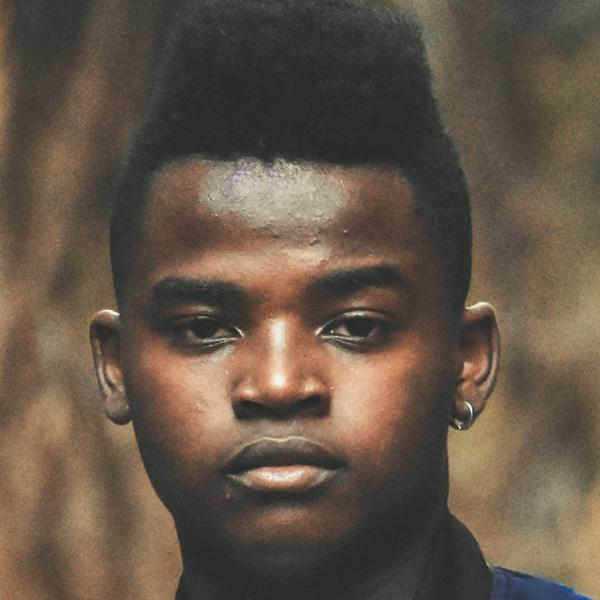Eyes: (312, 302, 405, 358), (154, 307, 250, 360)
